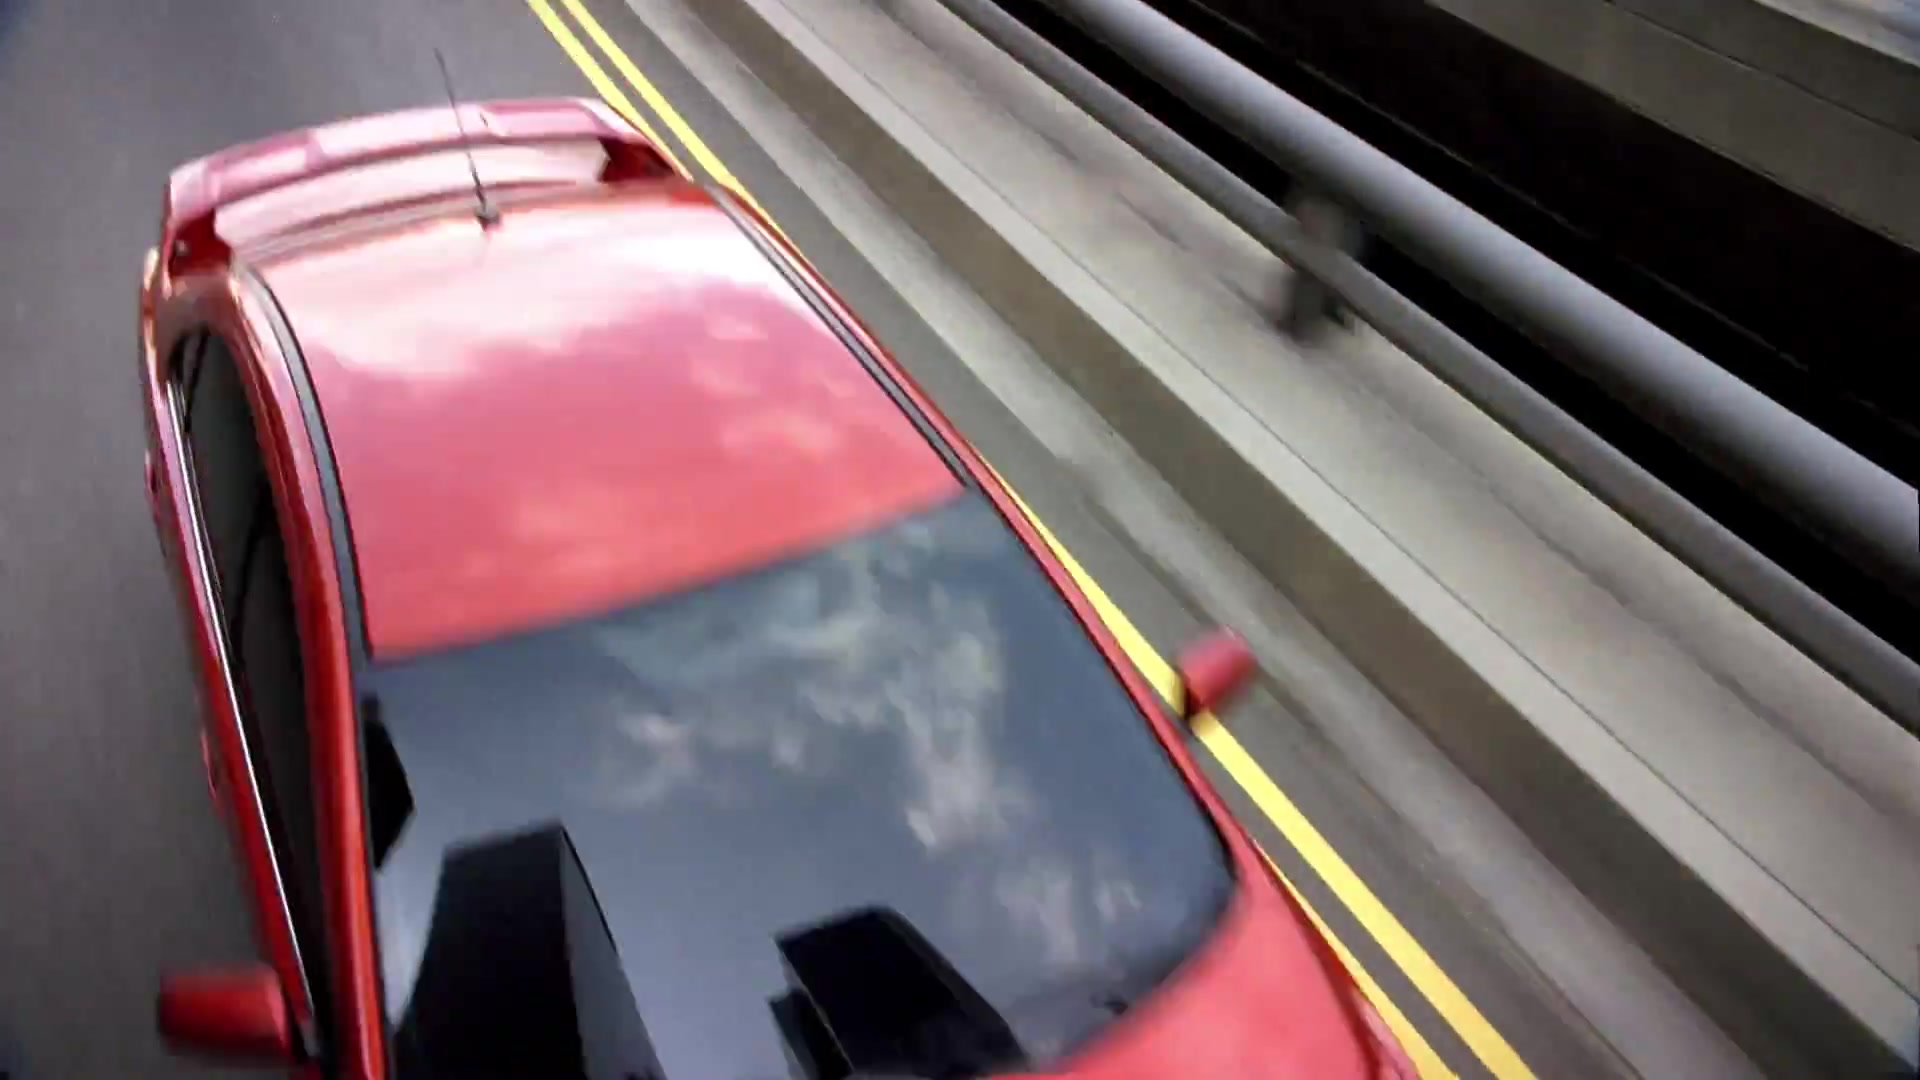car: (131, 94, 1429, 1080)
